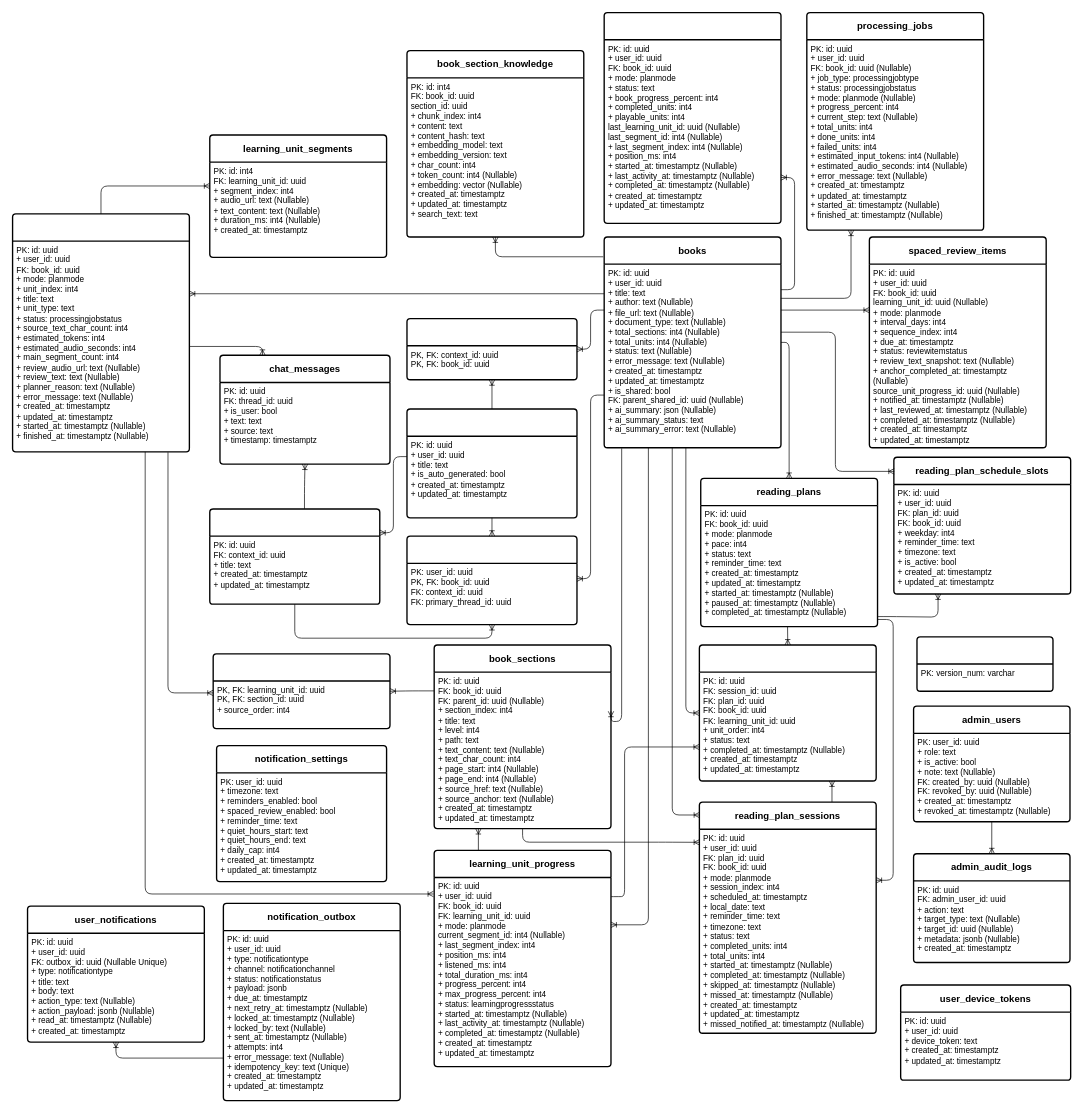
This 1083x1112 diagram has some shape labels left out. Each missing label, with the box of its shape:
alembic_version: (916, 636, 1053, 692)
book_learning_states: (603, 12, 781, 224)
chat_threads: (209, 508, 380, 605)
direct_book_context: (406, 535, 577, 625)
learning_unit_sources: (212, 653, 390, 729)
learning_units: (12, 213, 190, 452)
reading_plan_session_units: (698, 644, 877, 781)
study_context_document_links: (406, 318, 577, 380)
study_contexts: (406, 408, 577, 518)
